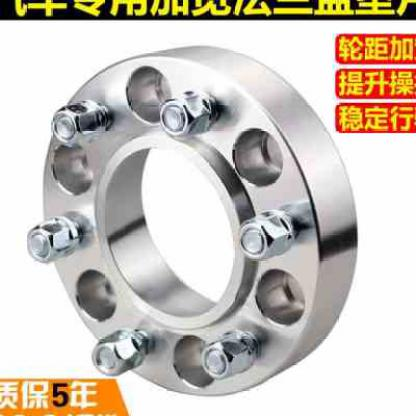FOD: (33, 41, 362, 400)
